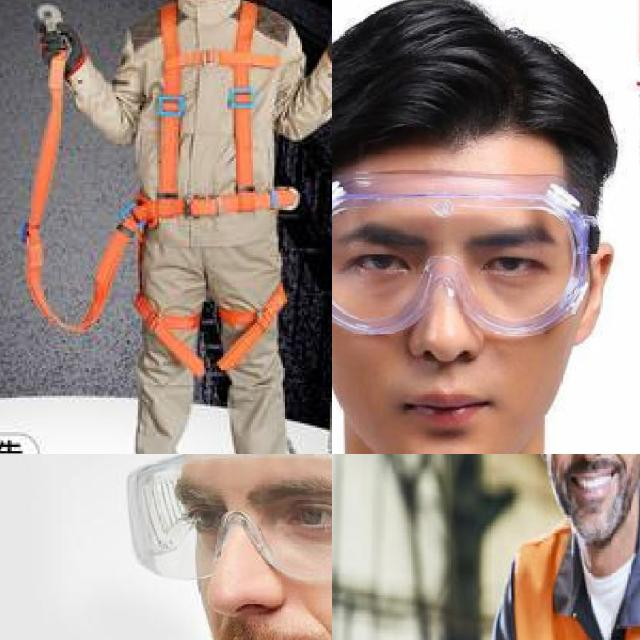Harness: (118, 0, 332, 393)
face_nomask: (337, 234, 552, 451), (154, 480, 332, 640), (546, 454, 639, 503)
glasses: (332, 171, 601, 337), (123, 454, 332, 584)
head_nohelmet: (332, 1, 616, 172)
person: (332, 0, 640, 454), (463, 454, 640, 640)
vest: (502, 495, 640, 640)
